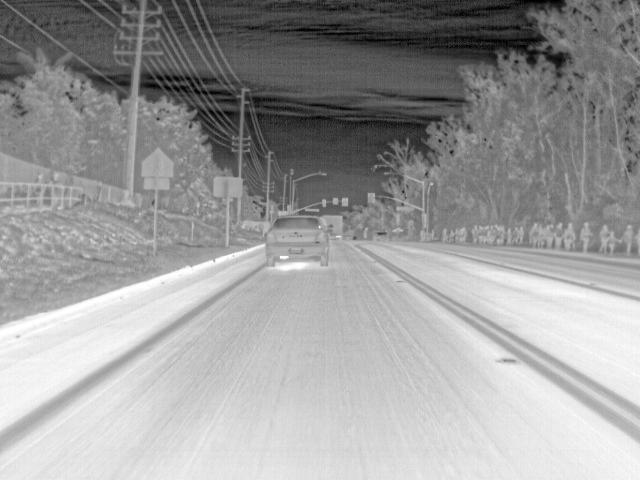car: (264, 218, 330, 268), (373, 229, 390, 242)
person: (623, 223, 635, 256), (581, 221, 593, 252), (598, 223, 610, 251), (553, 222, 564, 248), (607, 230, 620, 251), (566, 222, 575, 250), (532, 222, 540, 246), (542, 223, 550, 247), (633, 227, 640, 254), (441, 226, 450, 243), (460, 227, 469, 244), (518, 226, 525, 246), (487, 224, 494, 243), (505, 225, 512, 244), (480, 225, 487, 243), (495, 225, 502, 243), (472, 225, 479, 242), (513, 227, 520, 244), (449, 229, 456, 241), (457, 230, 463, 241)
